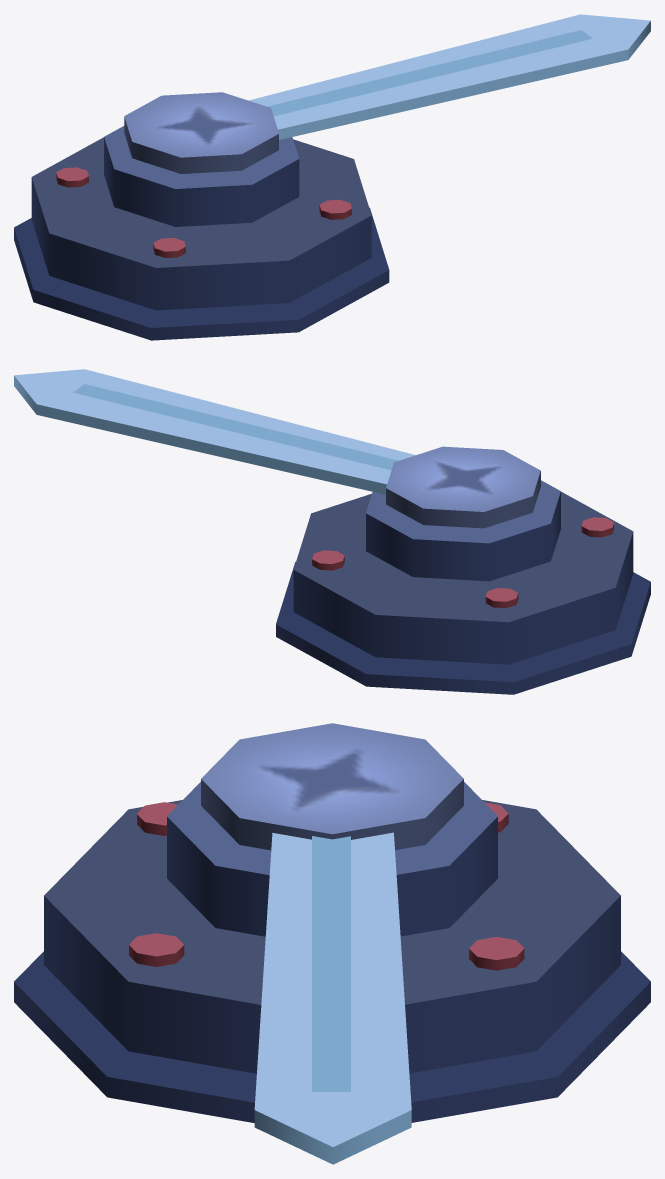
Rendered from 转盘剑_BG01png.FBX.
3 renders of one model, top to bottom at view 1: azimuth 30°, elevation 25°; view 2: azimuth 150°, elevation 25°; view 3: azimuth 270°, elevation 25°, orthographic. The views are drawn at different scales.
Parts seen in each view (by area): view 1: Object003; view 2: Object003; view 3: Object003.
Boxes of the visible parts, x1,y1,x2,y2 form: Object003: (14,14,650,340); Object003: (14,369,650,694); Object003: (14,723,650,1164).
Bounding box in the file's own units: 1.67 × 0.3513 × 0.9075.
